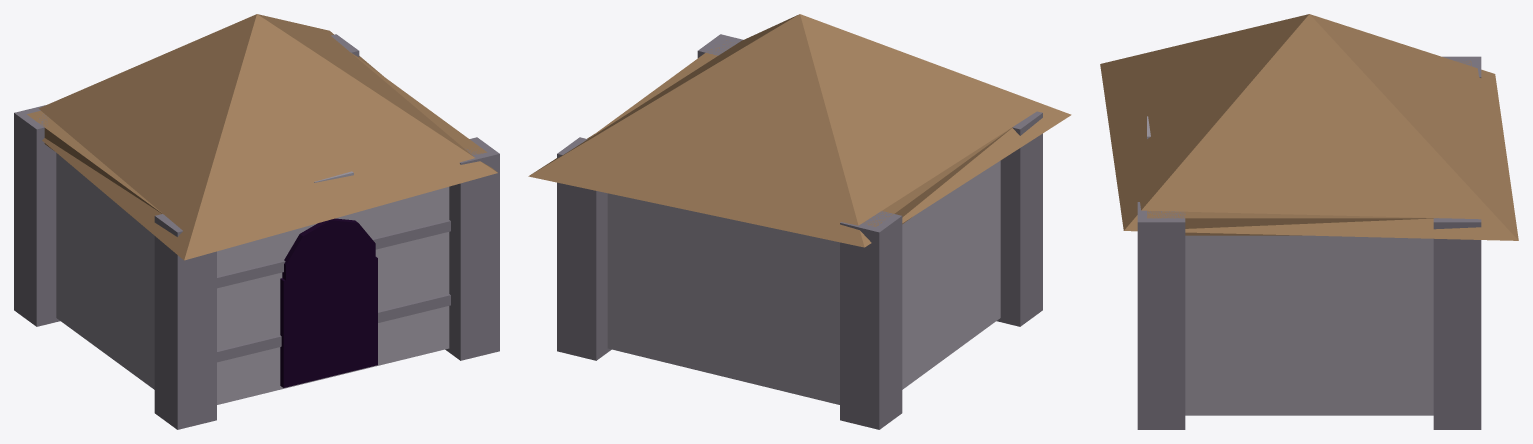
Rendered from gen_hut.glb.
The picture shows the model from 3 angles, left to right: view 1: azimuth 30°, elevation 25°; view 2: azimuth 150°, elevation 25°; view 3: azimuth 270°, elevation 25°; orthographic projection. The views are drawn at different scales.
Parts seen in each view (by area): view 1: Hut; view 2: Hut; view 3: Hut.
Part boxes in pixels (left/top/right/bottom): Hut: left=14, top=14, right=499, bottom=429; Hut: left=528, top=14, right=1071, bottom=429; Hut: left=1100, top=14, right=1518, bottom=429.
Size of the model in its own units: 0.8768 by 0.77 by 0.8768.
